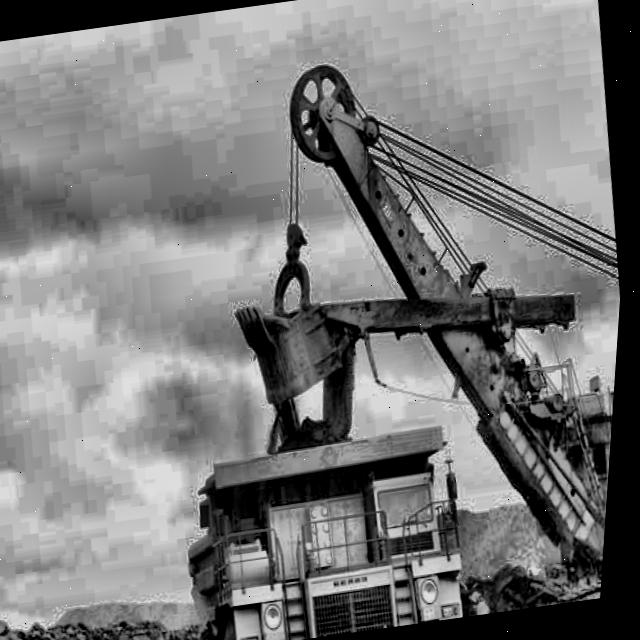dump_truck: (162, 422, 489, 640)
excavator: (229, 38, 624, 603)
